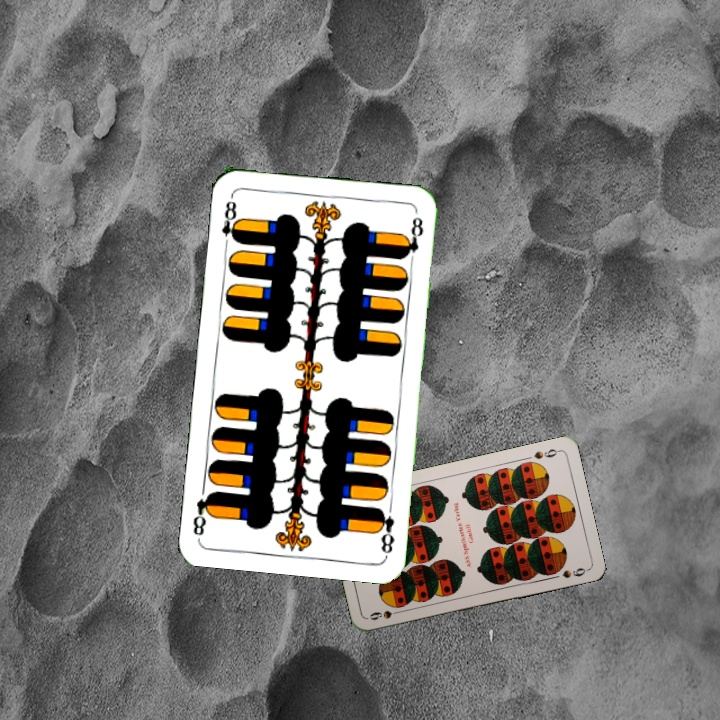E8: (218, 192, 243, 251), (373, 504, 397, 558)
S9: (365, 606, 406, 623), (530, 445, 562, 462)
